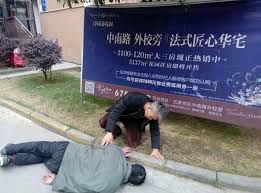fall: (0, 133, 149, 193)
